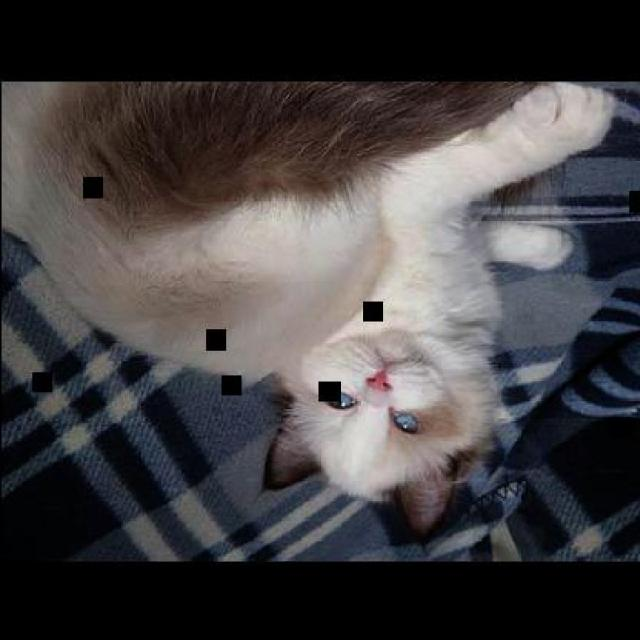unauthorized: (0, 78, 618, 536)
